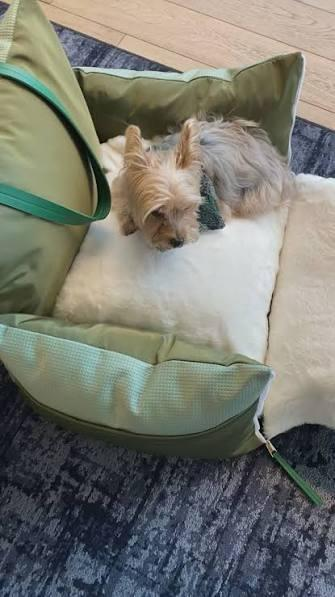adult_dog: (108, 112, 296, 253)
